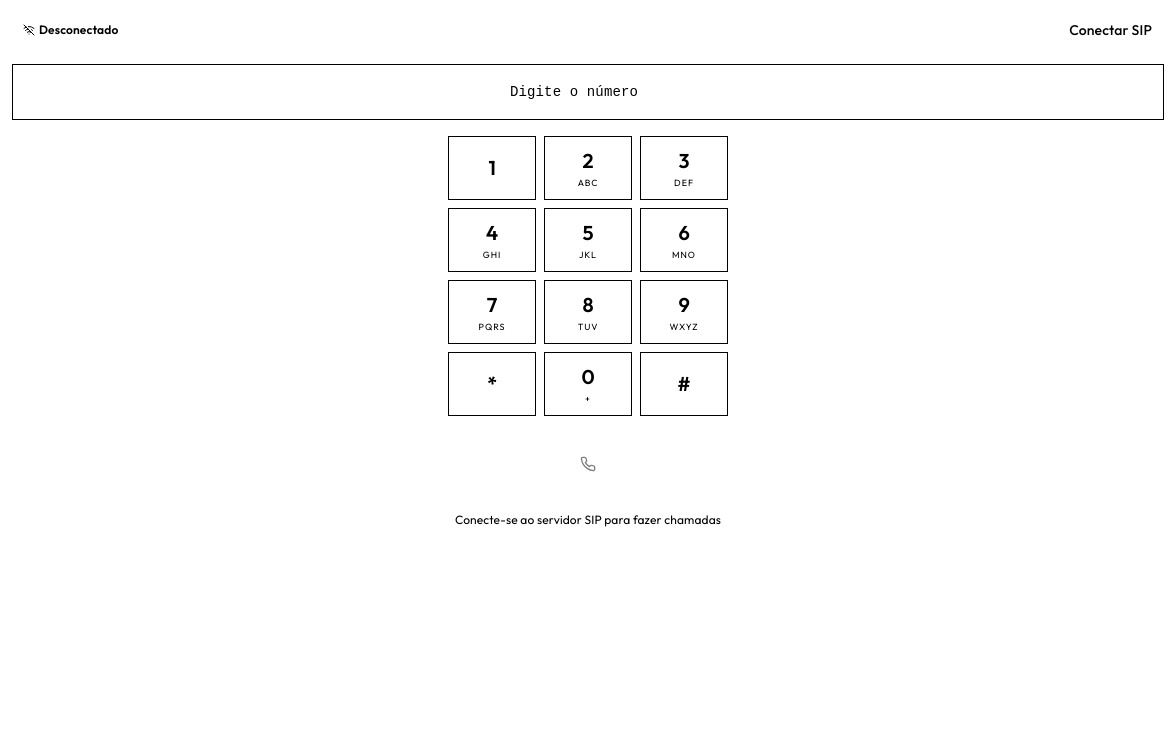
DialPad › filters non-numeric characters from input
In the field with placeholder "Digite o número": (588, 92) top-left (12, 64), bottom-right (1164, 120), type "abc123def456"
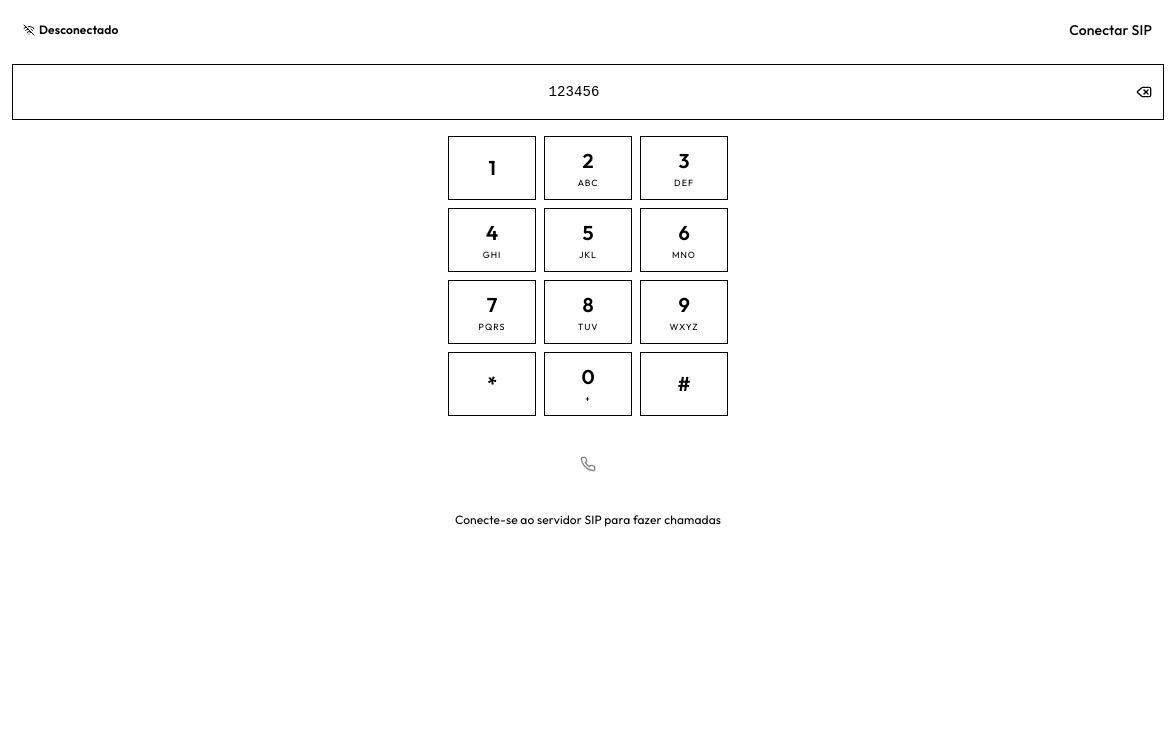
Expected: the field with placeholder "Digite o número" holds "123456", top-left (12, 64), bottom-right (1164, 120)
